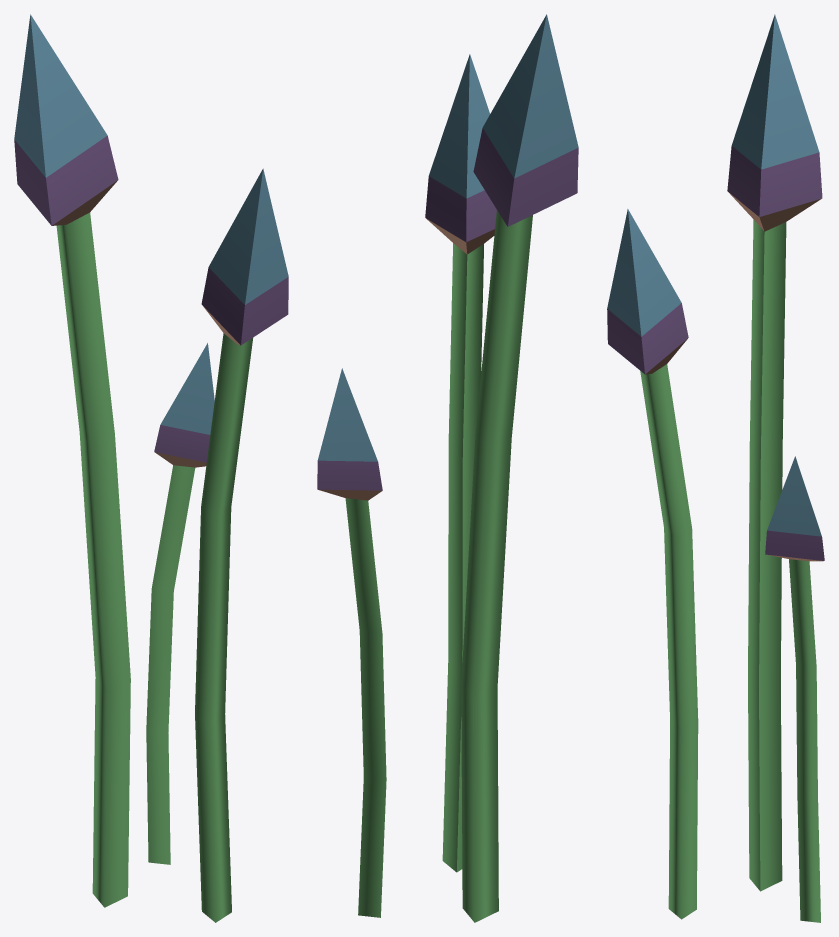
The model's file is Flowers_2.fbx.
3 views of the same model, side by side, from view 1: azimuth 30°, elevation 25°; view 2: azimuth 150°, elevation 25°; view 3: azimuth 270°, elevation 25° (orthographic). The views are drawn at different scales.
Visible parts, largest first — view 1: Flowers_2; view 2: Flowers_2; view 3: Flowers_2.
Boxes of the visible parts, x1,y1,x2,y2 form: Flowers_2: [14, 14, 288, 922]; Flowers_2: [317, 14, 578, 922]; Flowers_2: [607, 14, 824, 922].
Size of the model in its own units: 24.04 by 100 by 23.67.
